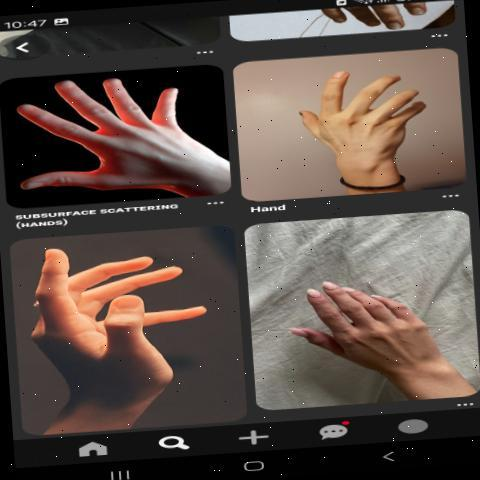Hands: (17, 241, 237, 427), (9, 70, 233, 203), (280, 249, 480, 394), (258, 55, 460, 194)
